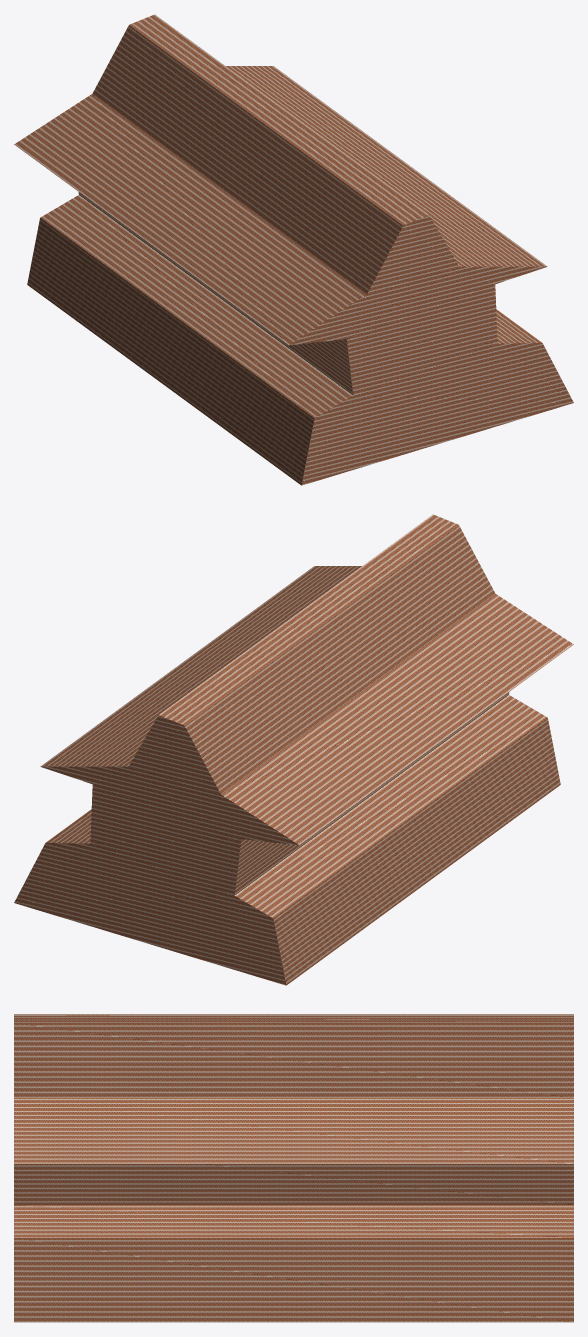
File: New Game Object.obj
The picture shows the model from 3 angles, top to bottom: view 1: azimuth 30°, elevation 25°; view 2: azimuth 150°, elevation 25°; view 3: azimuth 270°, elevation 25°; orthographic projection. The views are drawn at different scales.
Visible parts, largest first — view 1: New Game Object_0, New Game Object_1; view 2: New Game Object_0, New Game Object_1; view 3: New Game Object_0.
Boxes of the visible parts, left/top/right/bottom form: New Game Object_0: left=14, top=14, right=546, bottom=485; New Game Object_1: left=289, top=215, right=573, bottom=485; New Game Object_0: left=41, top=514, right=573, bottom=985; New Game Object_1: left=14, top=715, right=298, bottom=985; New Game Object_0: left=14, top=1014, right=573, bottom=1322.
Bounding box in the file's own units: 51.25 × 41.04 × 85.3.
